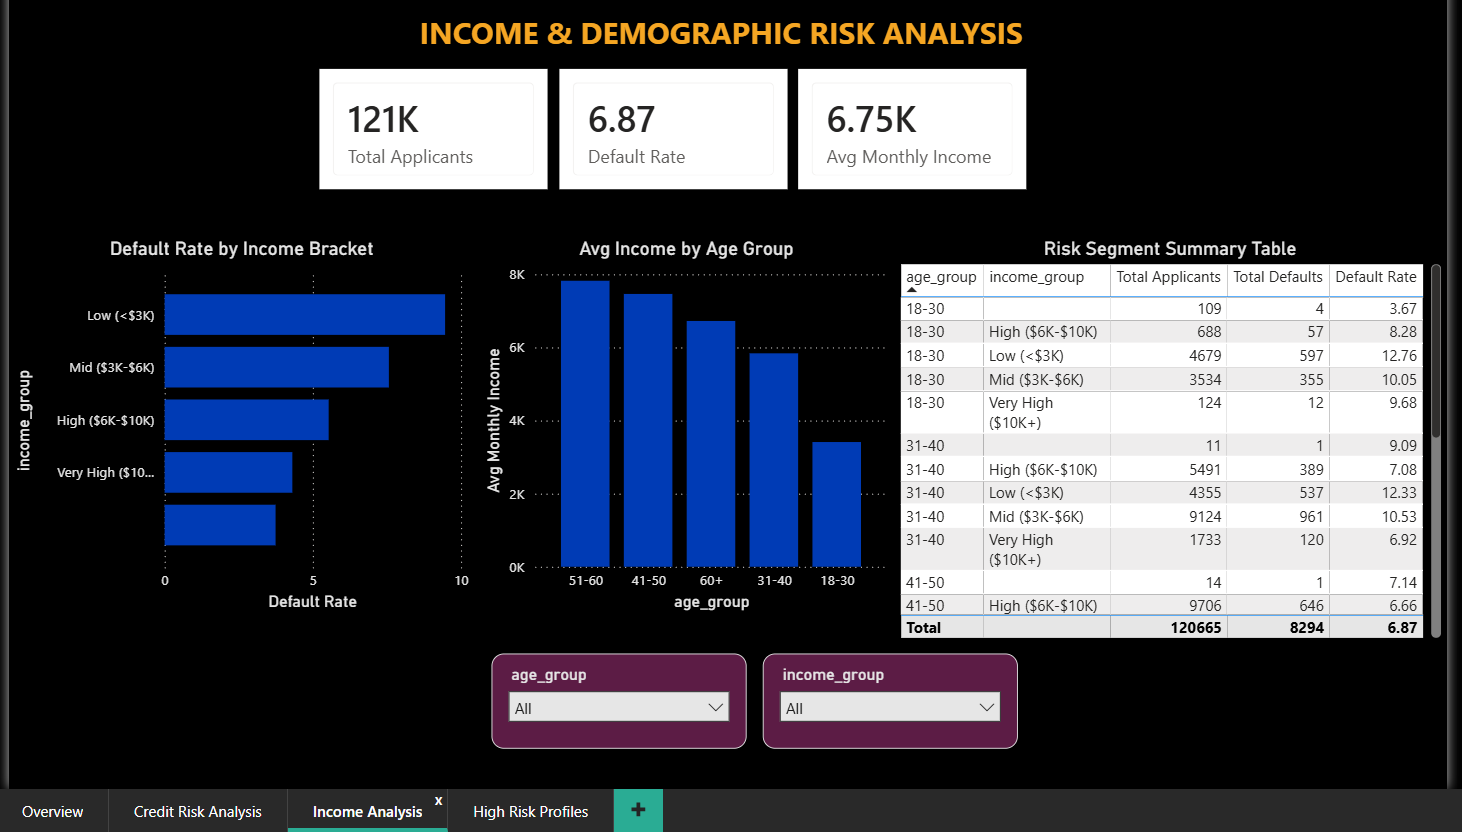

Layout of this report page (visuals, bound fields, positions):
{"tool":"powerbi","page":{"name":"Income Analysis","canvas":[1280,720],"ordinal":2},"visuals":[{"type":"textbox","box":[360.7,22.1,559.5,56.4],"z":0},{"type":"cardVisual","fields":{"Data":["credit_risk_clean.Avg Monthly Income"]},"box":[698.4,73.1,213.5,117.8],"z":1000},{"type":"cardVisual","fields":{"Data":["credit_risk_clean.Total Applicants"]},"box":[271.4,73.1,213.5,117.8],"z":2000},{"type":"cardVisual","fields":{"Data":["credit_risk_clean.Default Rate"]},"box":[484.9,73.1,213.5,117.8],"z":3000},{"type":"clusteredBarChart","title":"Default Rate by Income Bracket","fields":{"Y":["credit_risk_clean.Default Rate"],"Category":["credit_risk_clean.income_group"]},"box":[0,228.2,414.7,337.4],"z":4000},{"type":"clusteredColumnChart","title":"Avg Income by Age Group","fields":{"Category":["credit_risk_clean.age_group"],"Y":["credit_risk_clean.Avg Monthly Income"]},"box":[418.4,228.2,369.3,337.4],"z":5000},{"type":"tableEx","title":"Risk Segment Summary Table","fields":{"Values":["credit_risk_clean.age_group","credit_risk_clean.income_group","credit_risk_clean.Total Applicants","credit_risk_clean.Total Defaults","credit_risk_clean.Default Rate"]},"box":[787.7,228.2,492,362],"z":6000},{"type":"slicer","fields":{"Values":["credit_risk_clean.age_group"]},"box":[429.5,598.8,227,84.7],"z":7000},{"type":"slicer","fields":{"Values":["credit_risk_clean.income_group"]},"box":[671.2,598.8,227,84.7],"z":8000}]}

Visuals, with their boxes on the page's 1280x720 design canvas (x1, y1, x2, y2). These are canvas units, not pixel positions in the 1462x832 screenshot, which may show the page scaled, cropped or inside an application window:
textbox: x1=361, y1=22, x2=920, y2=78
cardVisual - credit_risk_clean.Avg Monthly Income: x1=698, y1=73, x2=912, y2=191
cardVisual - credit_risk_clean.Total Applicants: x1=271, y1=73, x2=485, y2=191
cardVisual - credit_risk_clean.Default Rate: x1=485, y1=73, x2=698, y2=191
"Default Rate by Income Bracket" clusteredBarChart: x1=0, y1=228, x2=415, y2=566
"Avg Income by Age Group" clusteredColumnChart: x1=418, y1=228, x2=788, y2=566
"Risk Segment Summary Table" tableEx: x1=788, y1=228, x2=1280, y2=590
slicer - credit_risk_clean.age_group: x1=430, y1=599, x2=656, y2=684
slicer - credit_risk_clean.income_group: x1=671, y1=599, x2=898, y2=684
